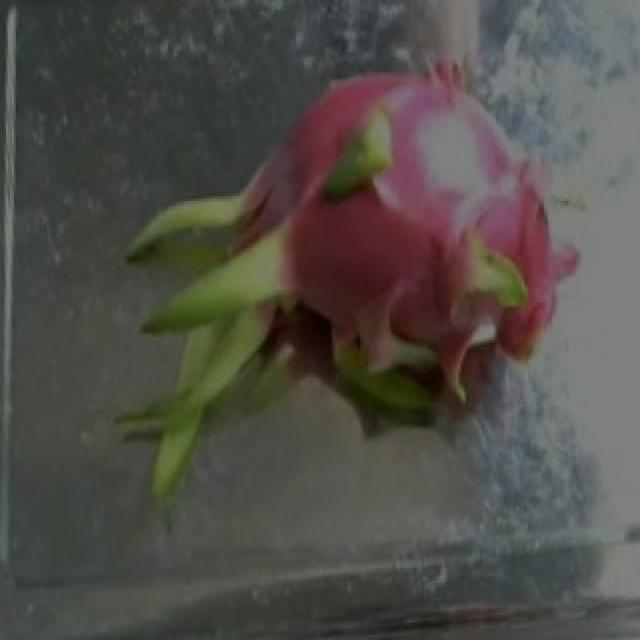fruit: (210, 17, 624, 469), (92, 37, 420, 501)
